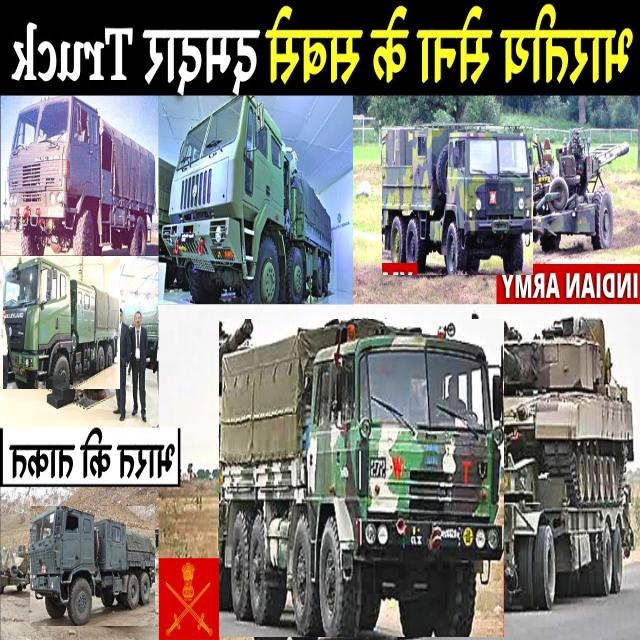truck: (219, 320, 504, 637), (161, 98, 348, 304), (470, 313, 634, 506), (8, 98, 155, 256), (382, 126, 532, 275), (3, 258, 119, 389), (30, 506, 155, 626)
